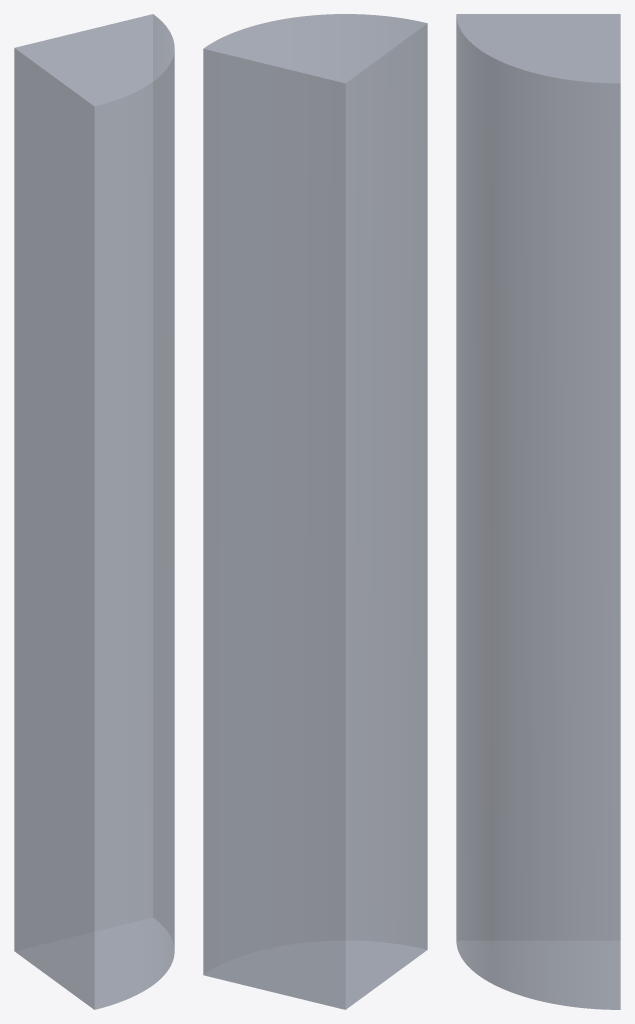
File: pillar-quarter.glb
3 views of the same model, side by side, from view 1: azimuth 30°, elevation 25°; view 2: azimuth 150°, elevation 25°; view 3: azimuth 270°, elevation 25° (orthographic). The views are drawn at different scales.
Visible parts, largest first — view 1: pillar-quarter; view 2: pillar-quarter; view 3: pillar-quarter.
Part boxes in pixels (x1,y1,x2,y2): pillar-quarter: (14,14,174,1009); pillar-quarter: (203,14,427,1009); pillar-quarter: (456,14,620,1009).
Size of the model in its own units: 0.45 by 2.8 by 0.45.
